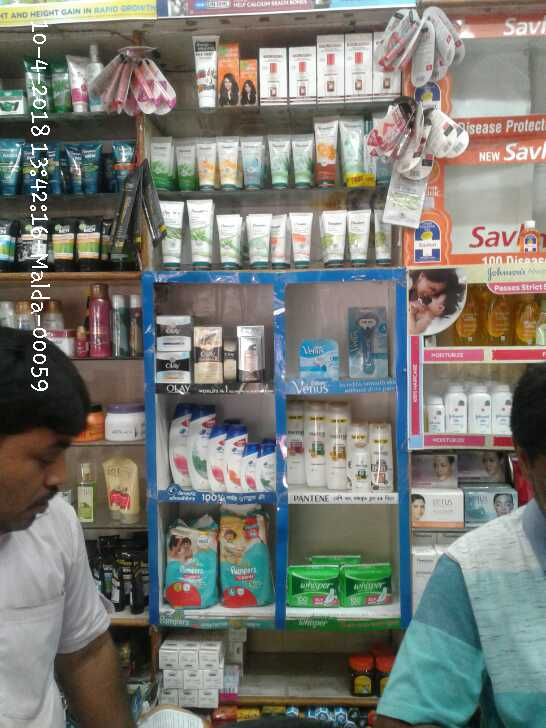venus: (91, 46, 175, 116), (348, 306, 389, 376), (300, 338, 339, 379)
